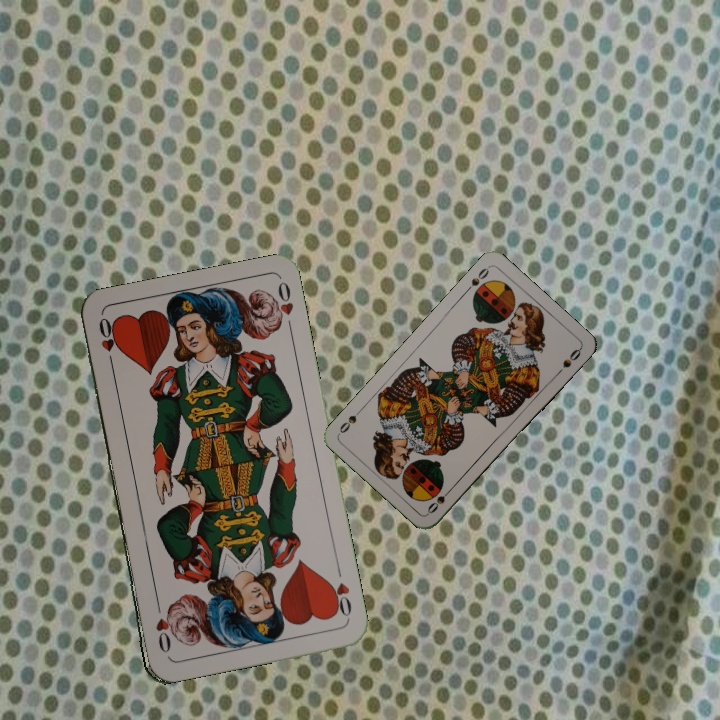HO: (324, 562, 354, 621), (94, 313, 117, 372)
SO: (423, 483, 455, 516), (461, 262, 492, 296)
